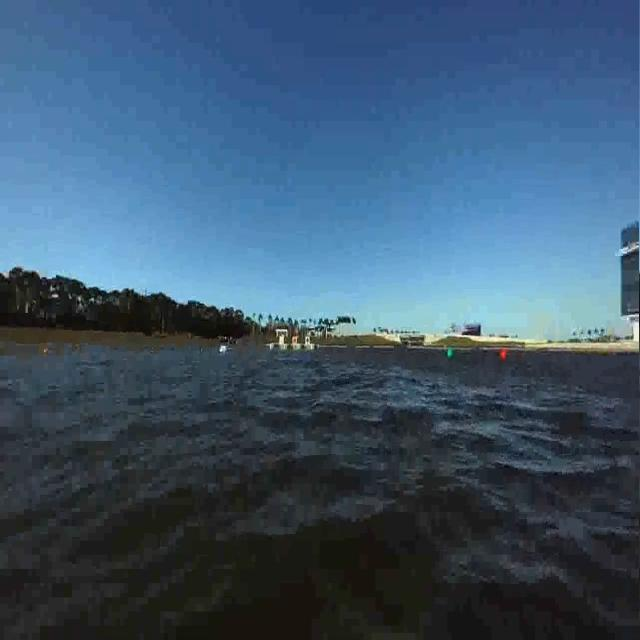green-buoy: (447, 348, 455, 360)
red-buoy: (501, 348, 506, 361)
